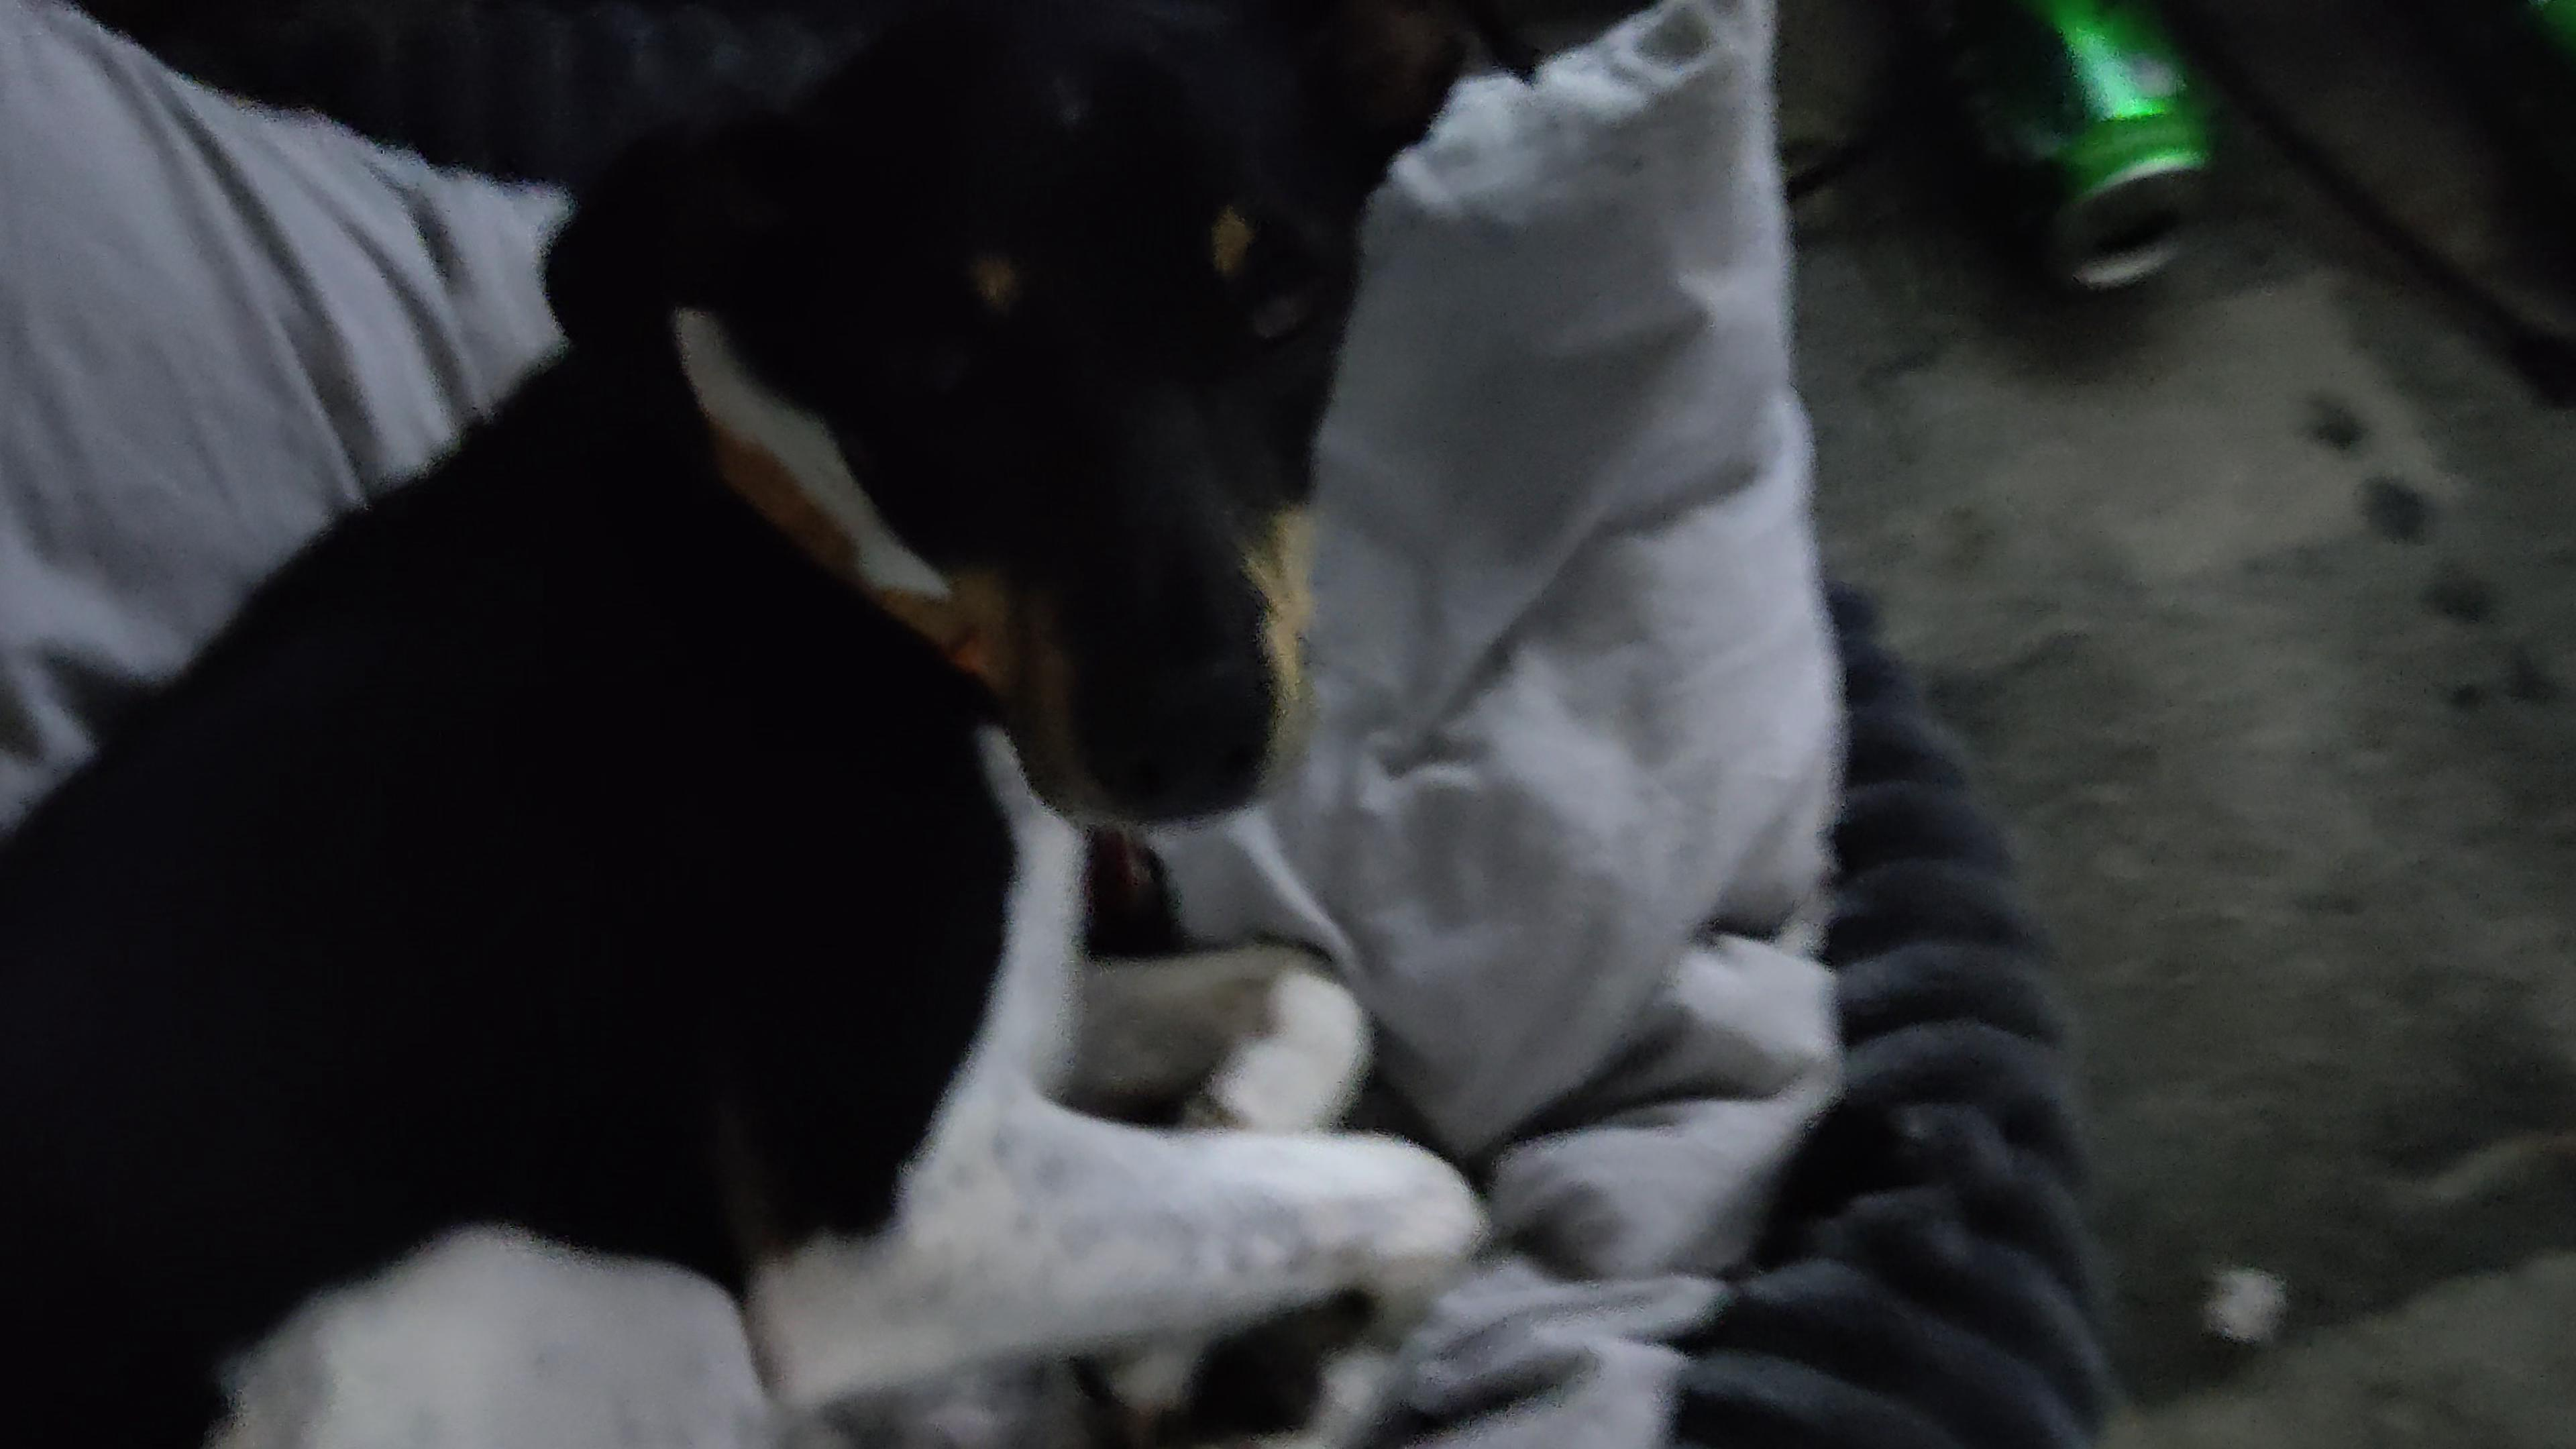Dog: (0, 0, 1568, 1449)
